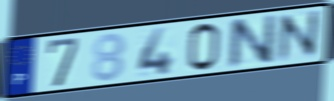0: (186, 21, 222, 73)
4: (135, 26, 177, 78)
7: (45, 37, 79, 89)
8: (89, 31, 129, 84)
N: (227, 12, 279, 71), (276, 8, 321, 65)
